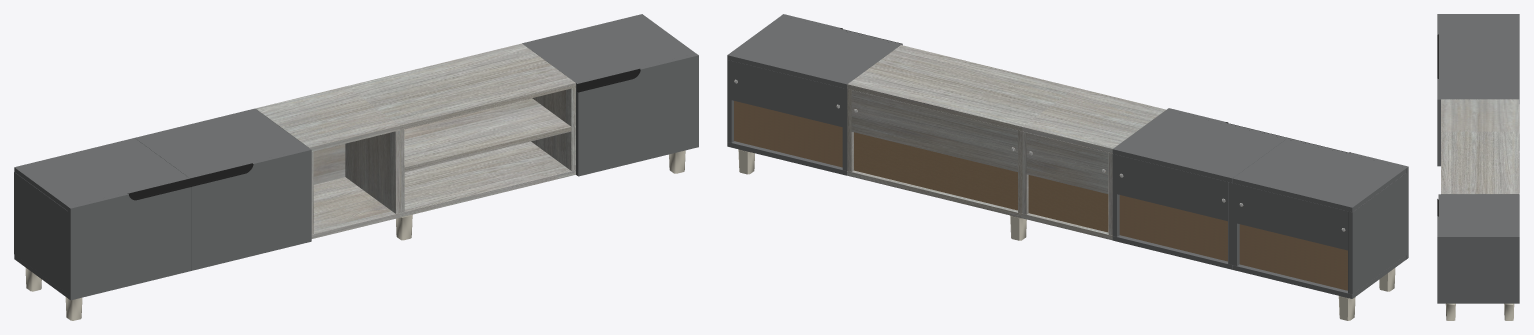
3 views of the same model, side by side, from view 1: azimuth 30°, elevation 25°; view 2: azimuth 150°, elevation 25°; view 3: azimuth 270°, elevation 25° (orthographic). The views are drawn at different scales.
Parts seen in each view (by area): view 1: group_0.148, group_0.094, group_0.151, group_0.146, group_0.145, Cube, Plane, group_0.114, group_0.152, group_0.147, group_0.149; view 2: group_0.094, group_0.148, group_0.146, group_0.151, group_0.145, Plane.002, group_0.150, group_0.153, group_0.144, Plane.001, group_0.114; view 3: group_0.151, group_0.094, group_0.146, group_0.148, group_0.145, group_0.154.
Part boxes in pixels (x1,y1,x2,y2): group_0.148: (14,138,190,300); group_0.094: (346,43,575,217); group_0.151: (522,14,698,176); group_0.146: (135,108,311,270); group_0.145: (255,86,399,238); Cube: (404,98,571,171); Plane: (313,144,345,184); group_0.114: (25,267,82,320); group_0.152: (577,68,640,92); group_0.147: (190,163,253,186); group_0.149: (127,178,190,200); group_0.094: (847,45,1075,218); group_0.148: (1232,138,1408,298); group_0.146: (1112,108,1287,269); group_0.151: (727,14,902,175); group_0.145: (1022,87,1165,240); Plane.002: (854,108,1017,210); group_0.150: (1239,206,1347,290); group_0.153: (734,101,842,167); group_0.144: (1119,195,1227,261); Plane.001: (1028,171,1108,232); group_0.114: (1338,268,1395,320); group_0.151: (1437,194,1519,303); group_0.094: (1441,131,1519,194); group_0.146: (1437,56,1519,166); group_0.148: (1437,14,1519,56); group_0.145: (1441,99,1519,193); group_0.154: (1445,303,1514,320).
Size of the model in its own units: 2.5 by 0.4532 by 0.391.
Materials: 11 (4 with a texture image).
